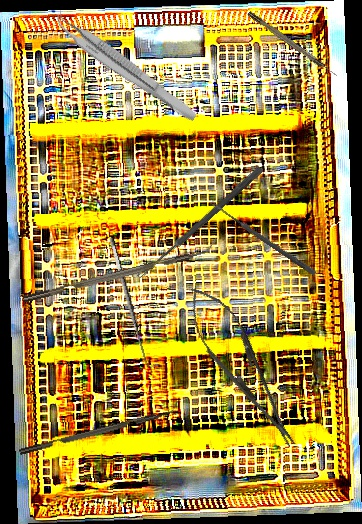Chopper: (20, 238, 220, 303), (16, 401, 182, 455)
Hook Surgical: (107, 234, 160, 371), (247, 10, 339, 79)
Needle Holder: (173, 275, 311, 459)
Surgical Spoon: (136, 165, 264, 281), (209, 200, 317, 276)
Tissue Forceps: (47, 7, 205, 125)
